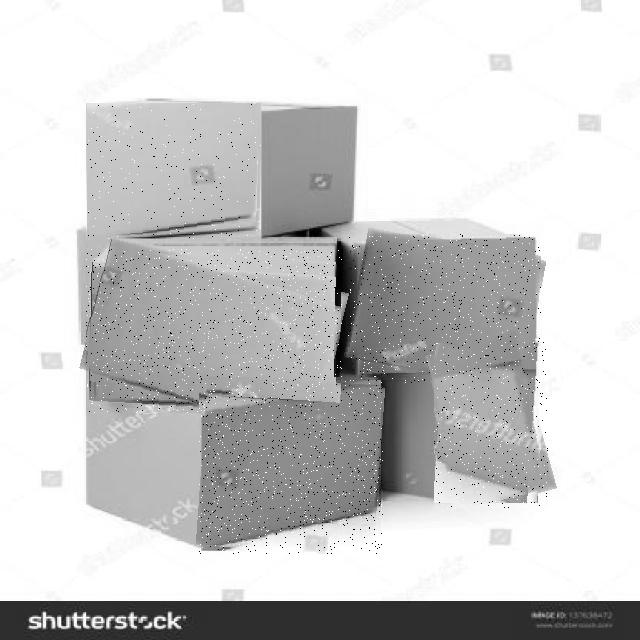BoxFace: (86, 249, 342, 413), (199, 377, 383, 554), (348, 234, 541, 383), (87, 103, 261, 239), (434, 338, 548, 508)
